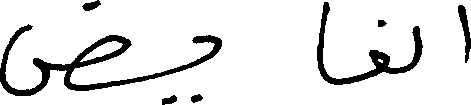ا: (317, 0, 330, 85), (456, 3, 469, 63)
ض: (0, 0, 129, 97)
ف: (368, 18, 389, 78)
ل: (411, 24, 422, 69)
ي: (160, 33, 220, 103)
